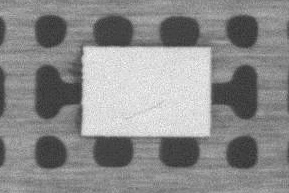DIE_CRACK: (119, 100, 165, 120)
